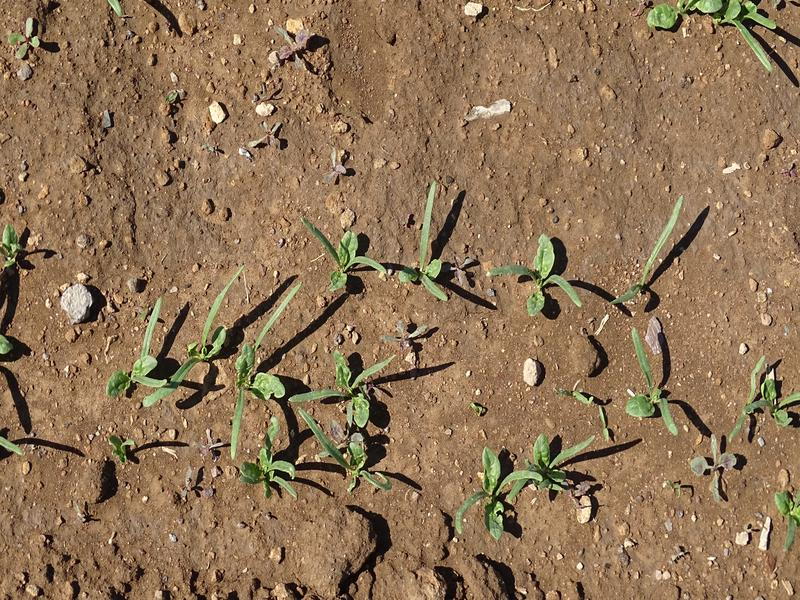Espinaca: (92, 274, 304, 495), (453, 428, 599, 543), (307, 352, 390, 492), (645, 1, 783, 77), (612, 199, 681, 306), (307, 216, 390, 297), (500, 231, 572, 318), (399, 195, 457, 300), (623, 330, 677, 439), (729, 357, 796, 433), (770, 478, 799, 551)
